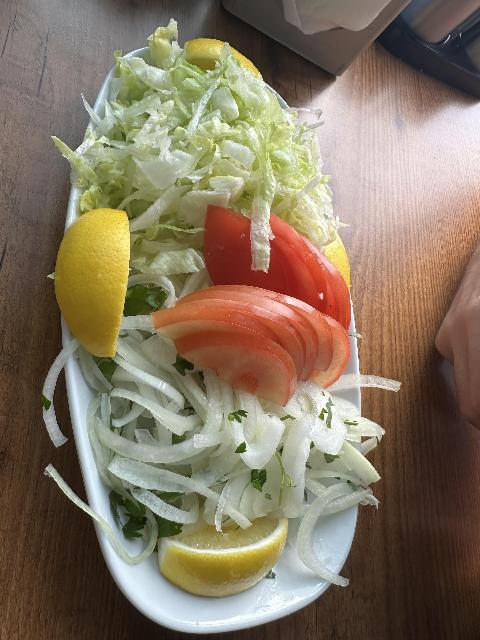Organik: (106, 406, 332, 483), (214, 216, 354, 316), (156, 310, 349, 378), (68, 206, 129, 354), (156, 527, 286, 592), (41, 473, 210, 522), (208, 132, 306, 195), (137, 105, 203, 198), (189, 33, 271, 90), (38, 354, 67, 449), (252, 214, 268, 268)
